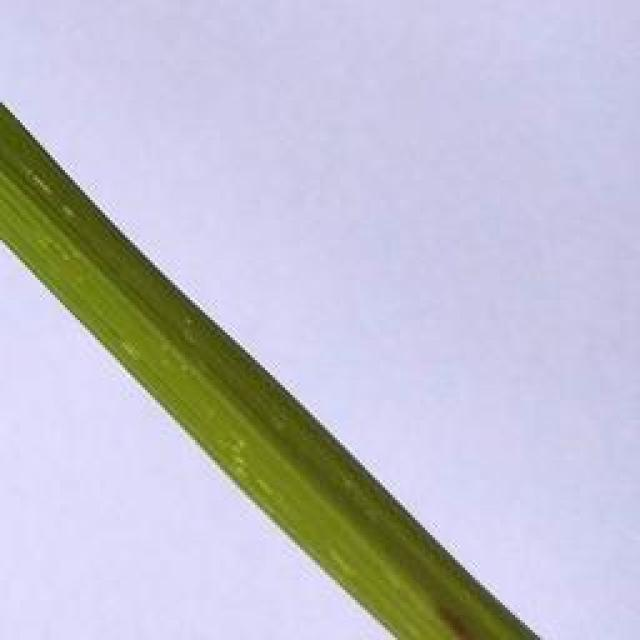Brown_Spot: (420, 594, 480, 640)
